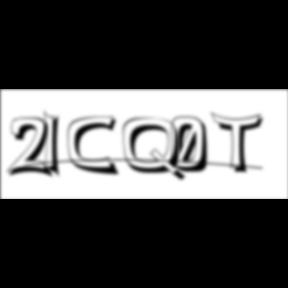0: (172, 115, 216, 174)
2: (7, 117, 57, 181)
C: (68, 115, 122, 178)
Q: (123, 117, 189, 184)
T: (211, 112, 269, 176)
l: (44, 108, 66, 182)
